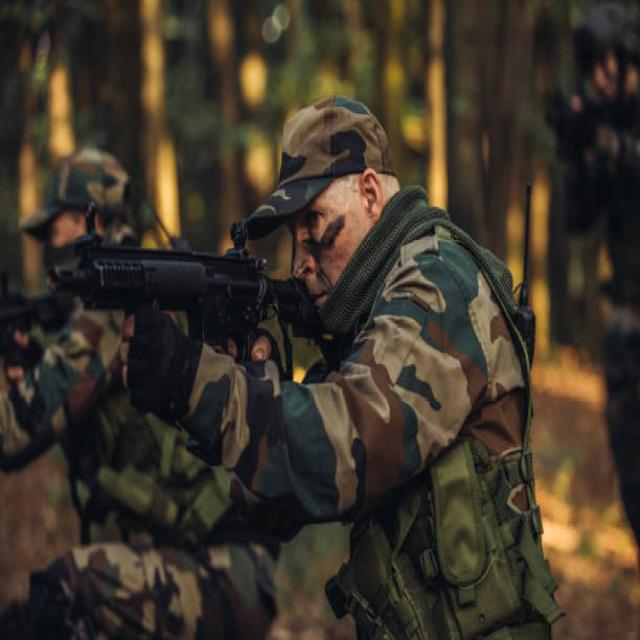soldier: (49, 48, 528, 627), (533, 5, 640, 462)
